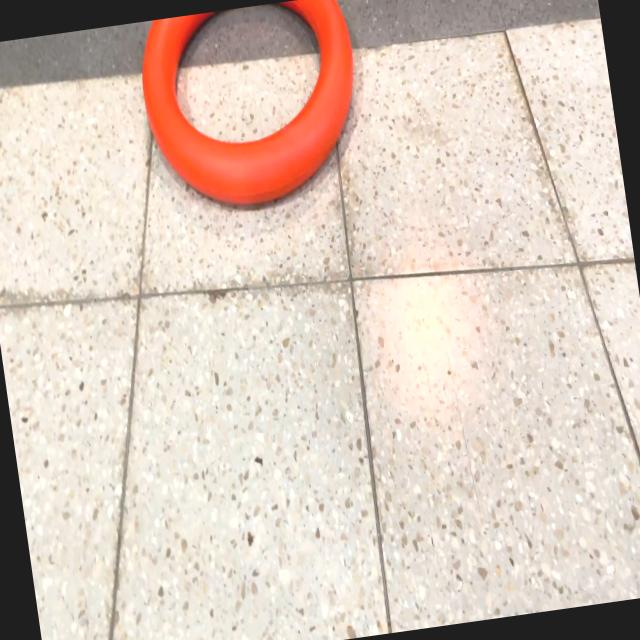note: (132, 0, 374, 222)
